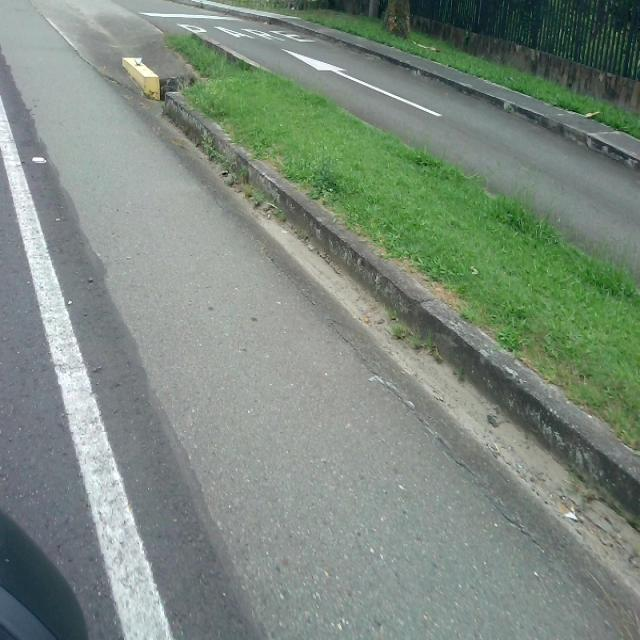DITCH: (1, 7, 639, 638)
